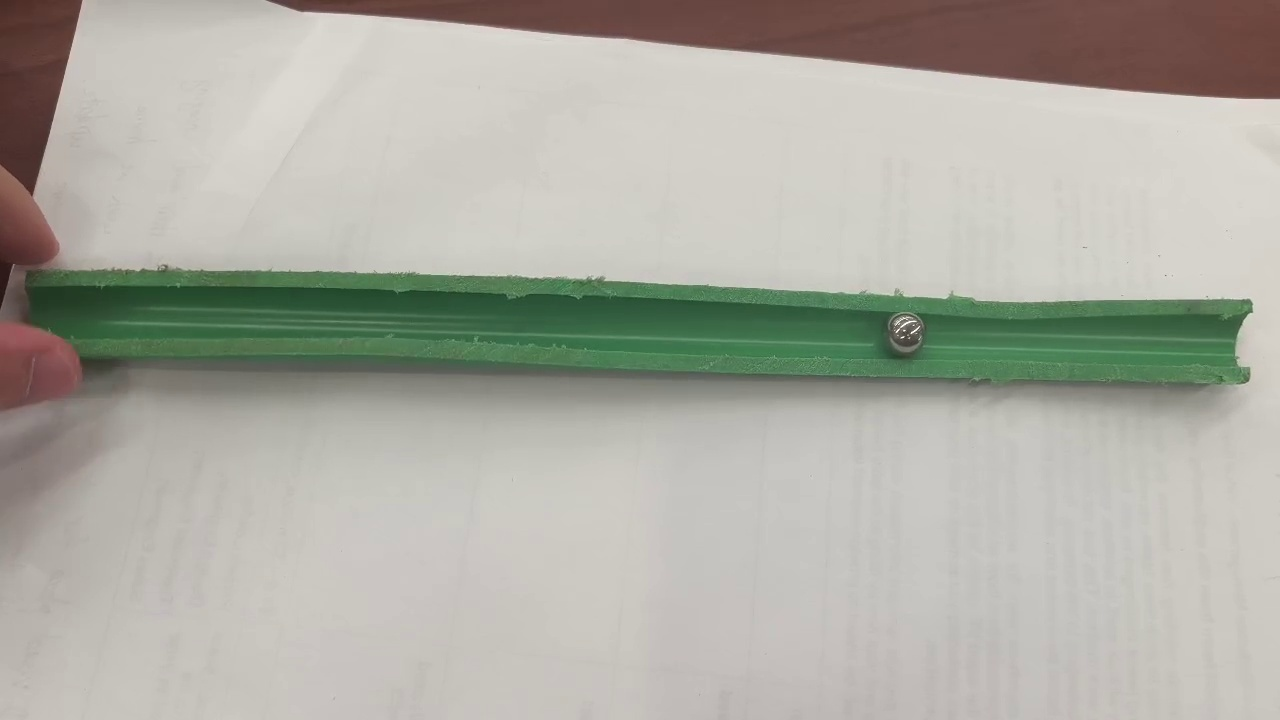ball: (888, 314, 924, 355)
